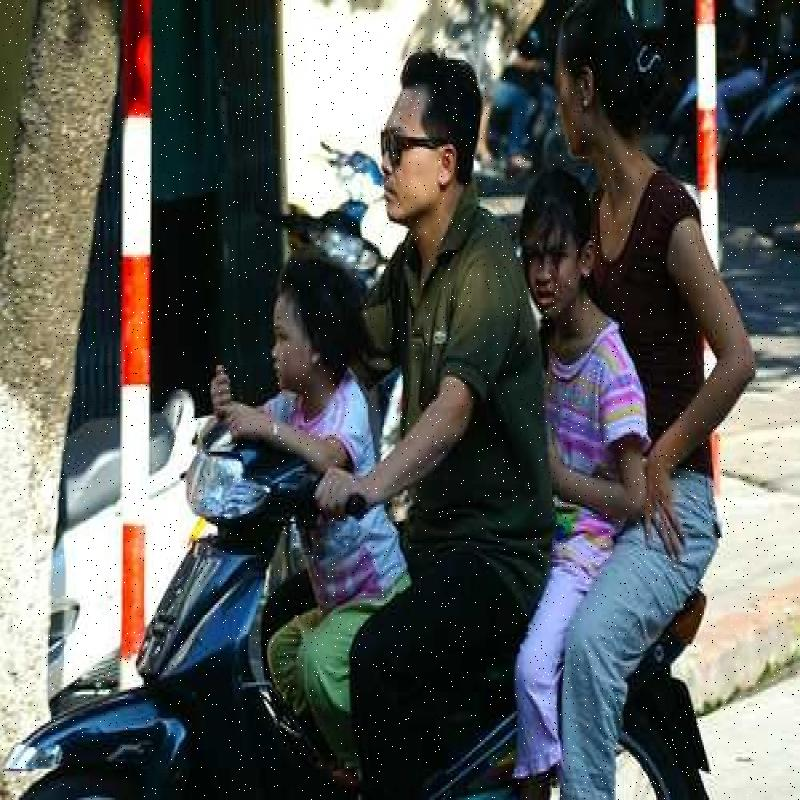bike: (7, 397, 310, 772)
